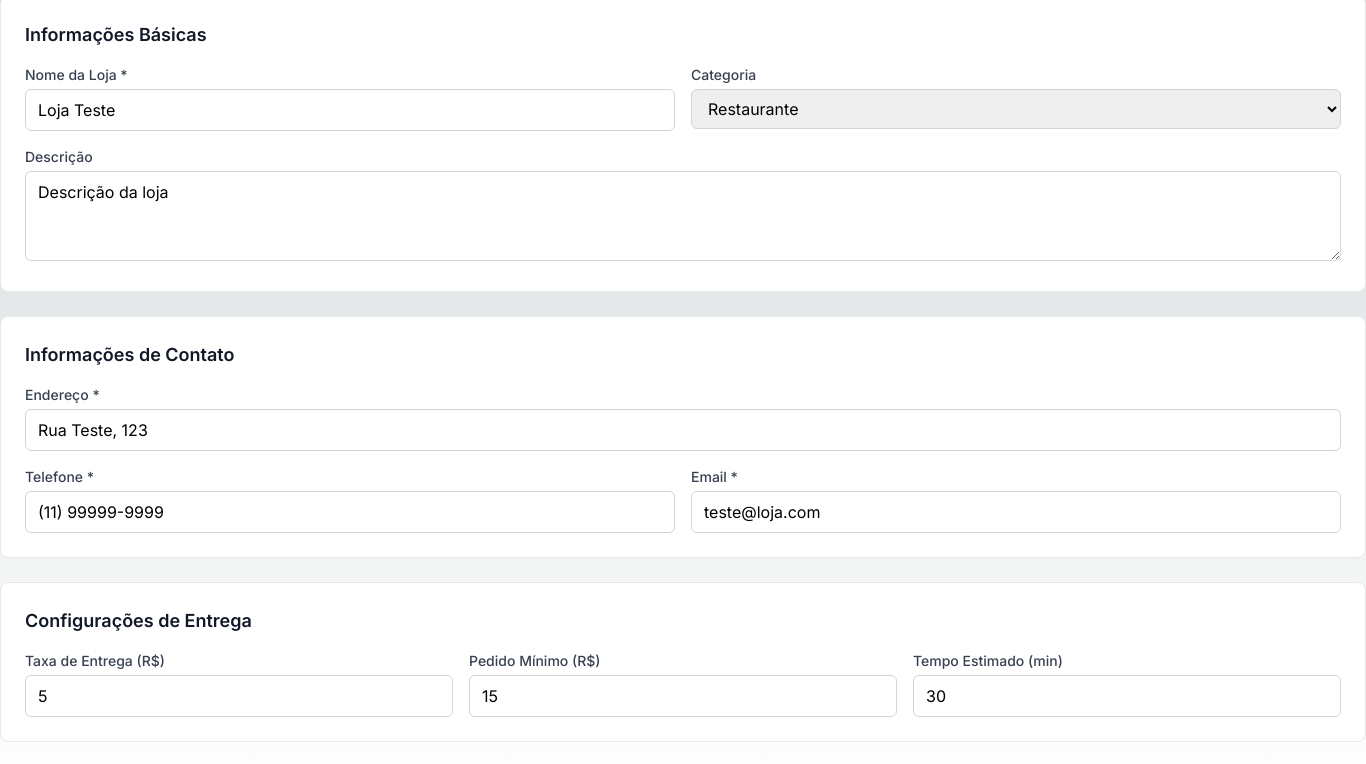
Test case: StoreEditForm › deve validar campos obrigatórios
The width and height of the screenshot is (1366, 764).
Step 1. Clear the field showing "Loja Teste" → (350,110), box [25,89,675,131]
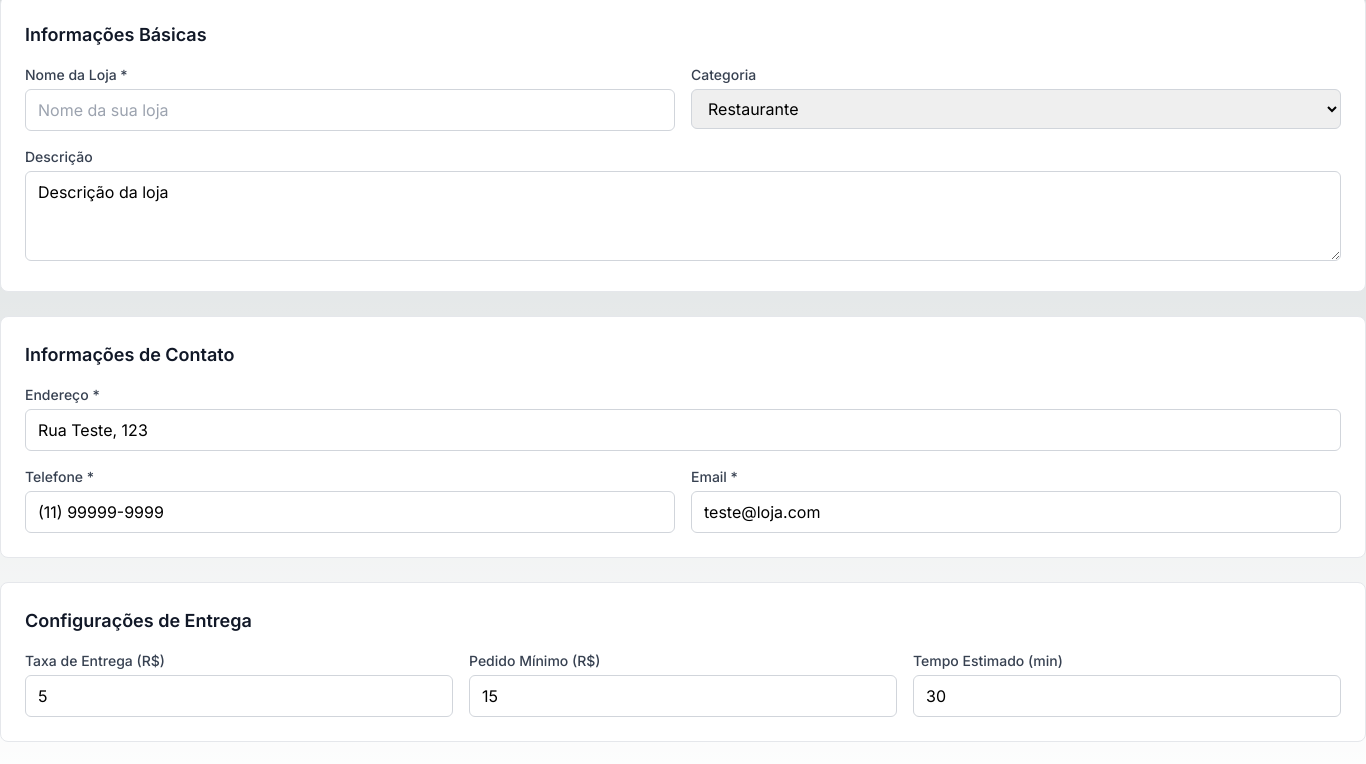
Step 2. Clear the field showing "Rua Teste, 123" → (683,430), box [25,409,1341,451]
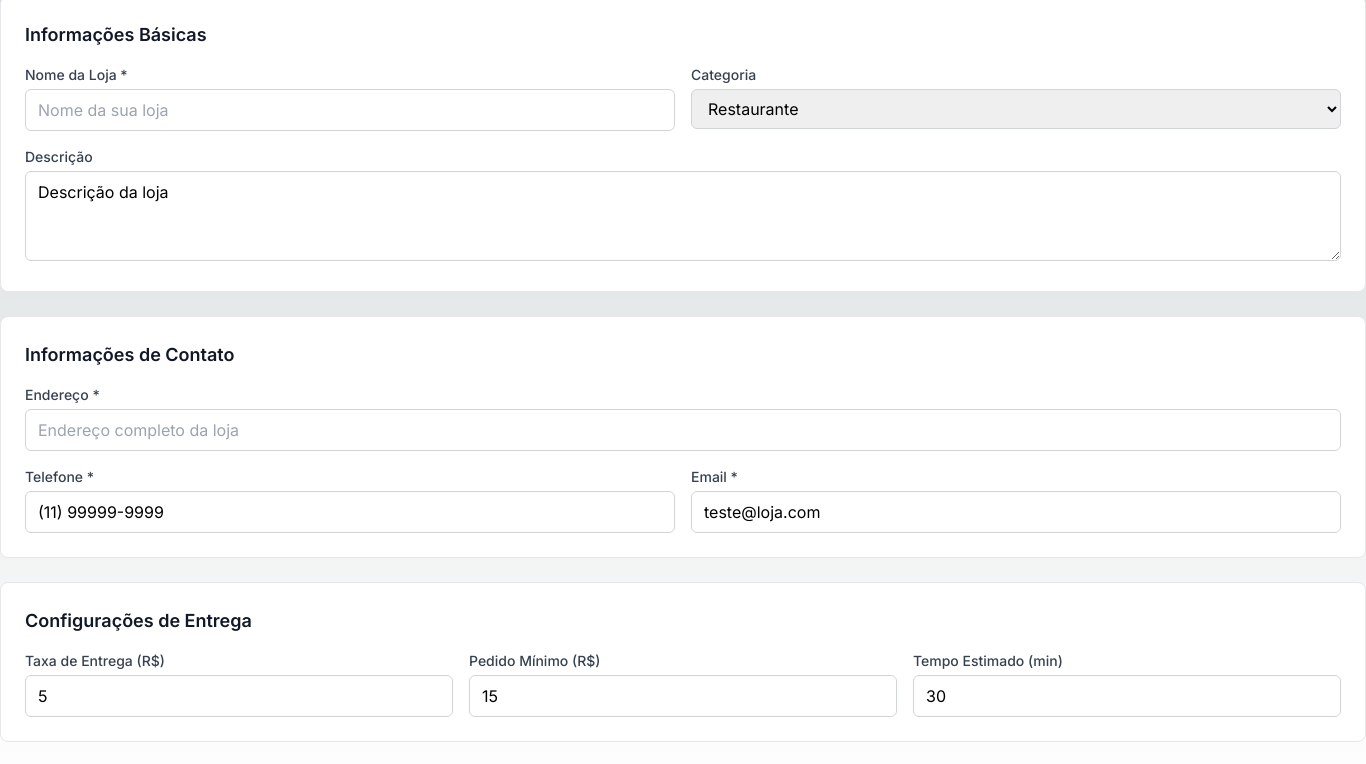
Step 3. Clear the field showing "(11) 99999-9999" → (350,512), box [25,491,675,533]
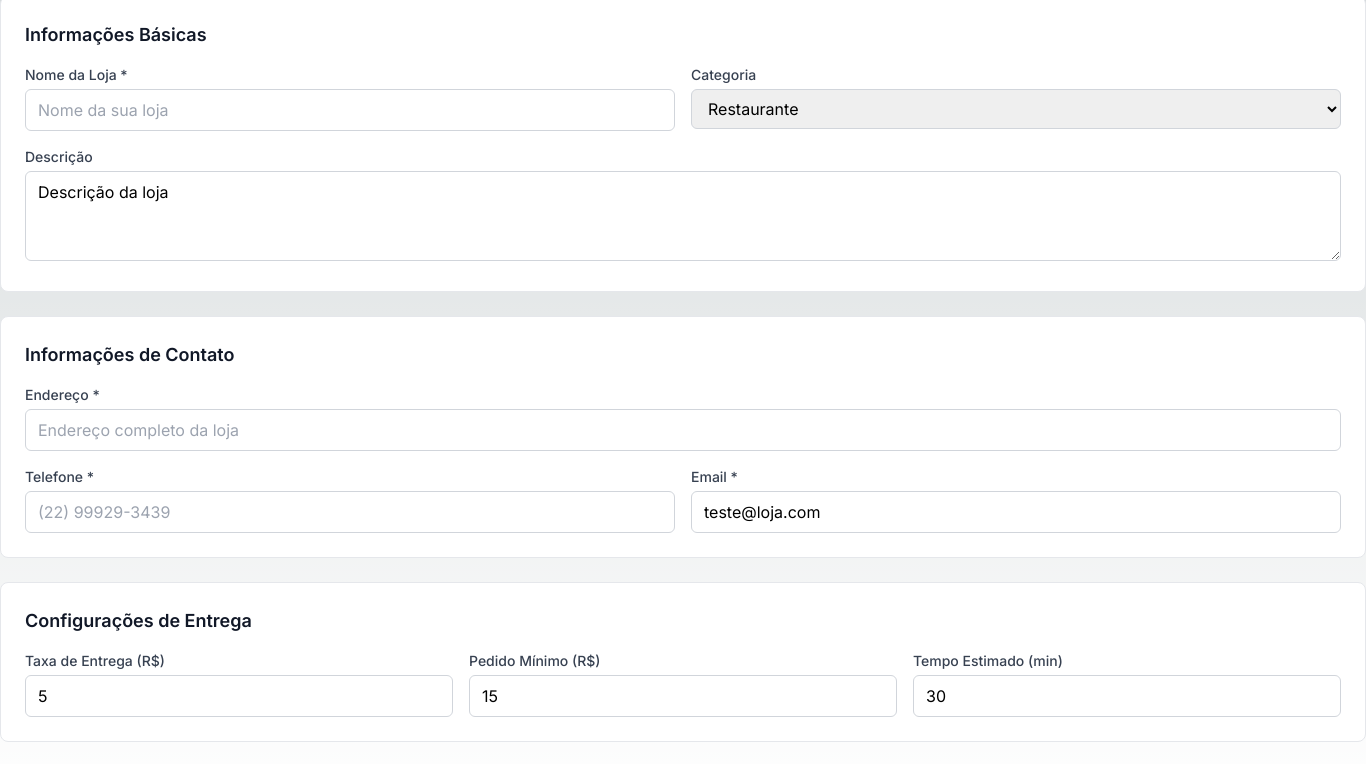
Step 4. Clear the field showing "teste@loja.com" → (1016,512), box [691,491,1341,533]
(page scrolled)
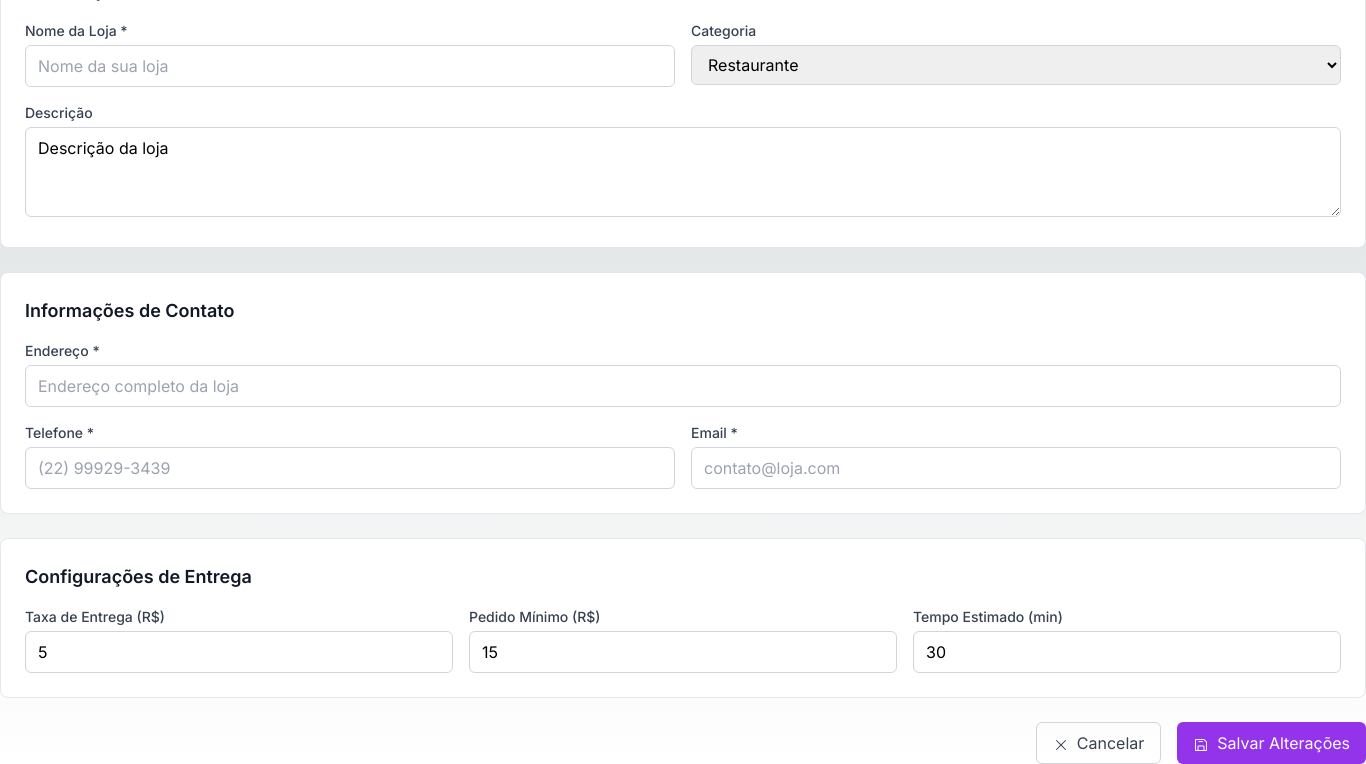
Step 5. Click the button "Salvar Alterações" → (1272,743), box [1177,722,1365,763]
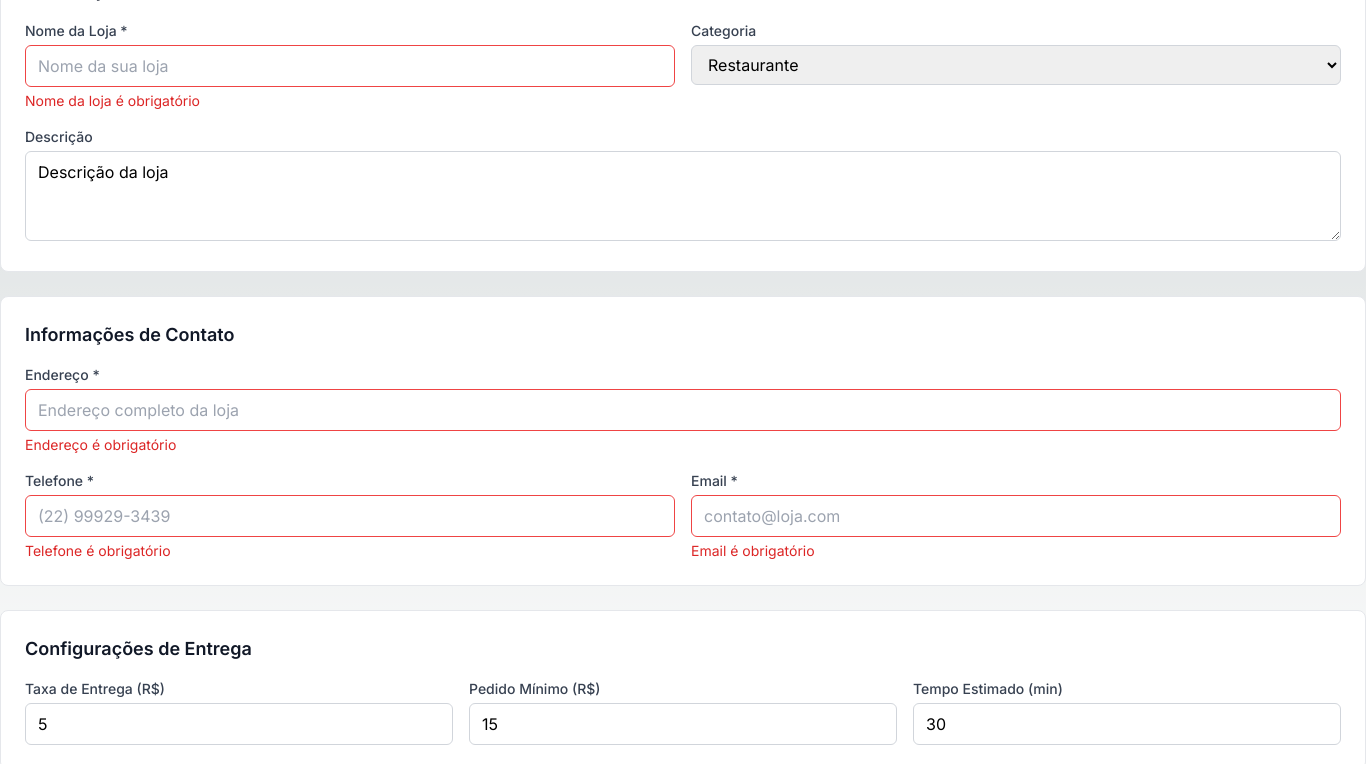
Check: the text "Nome da loja é obrigatório" is shown, box [25,92,200,109]
Check: the text "Endereço é obrigatório" is shown, box [25,436,176,453]
Check: the text "Telefone é obrigatório" is shown, box [25,542,170,559]
